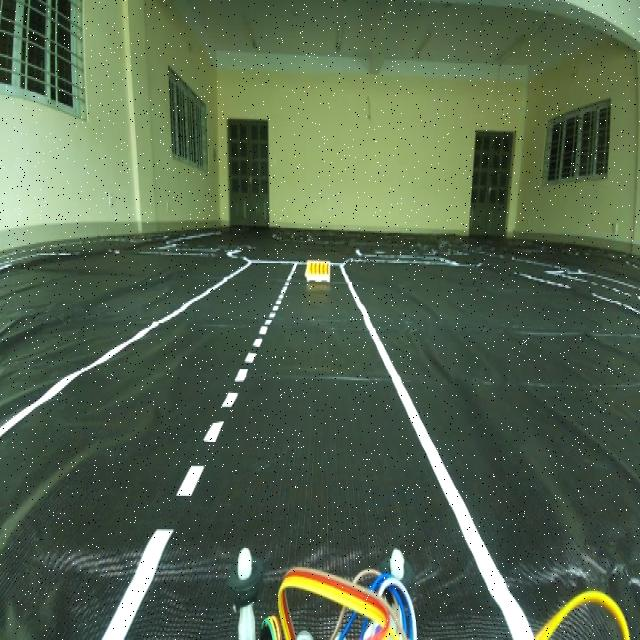roadblock: (301, 251, 335, 294)
